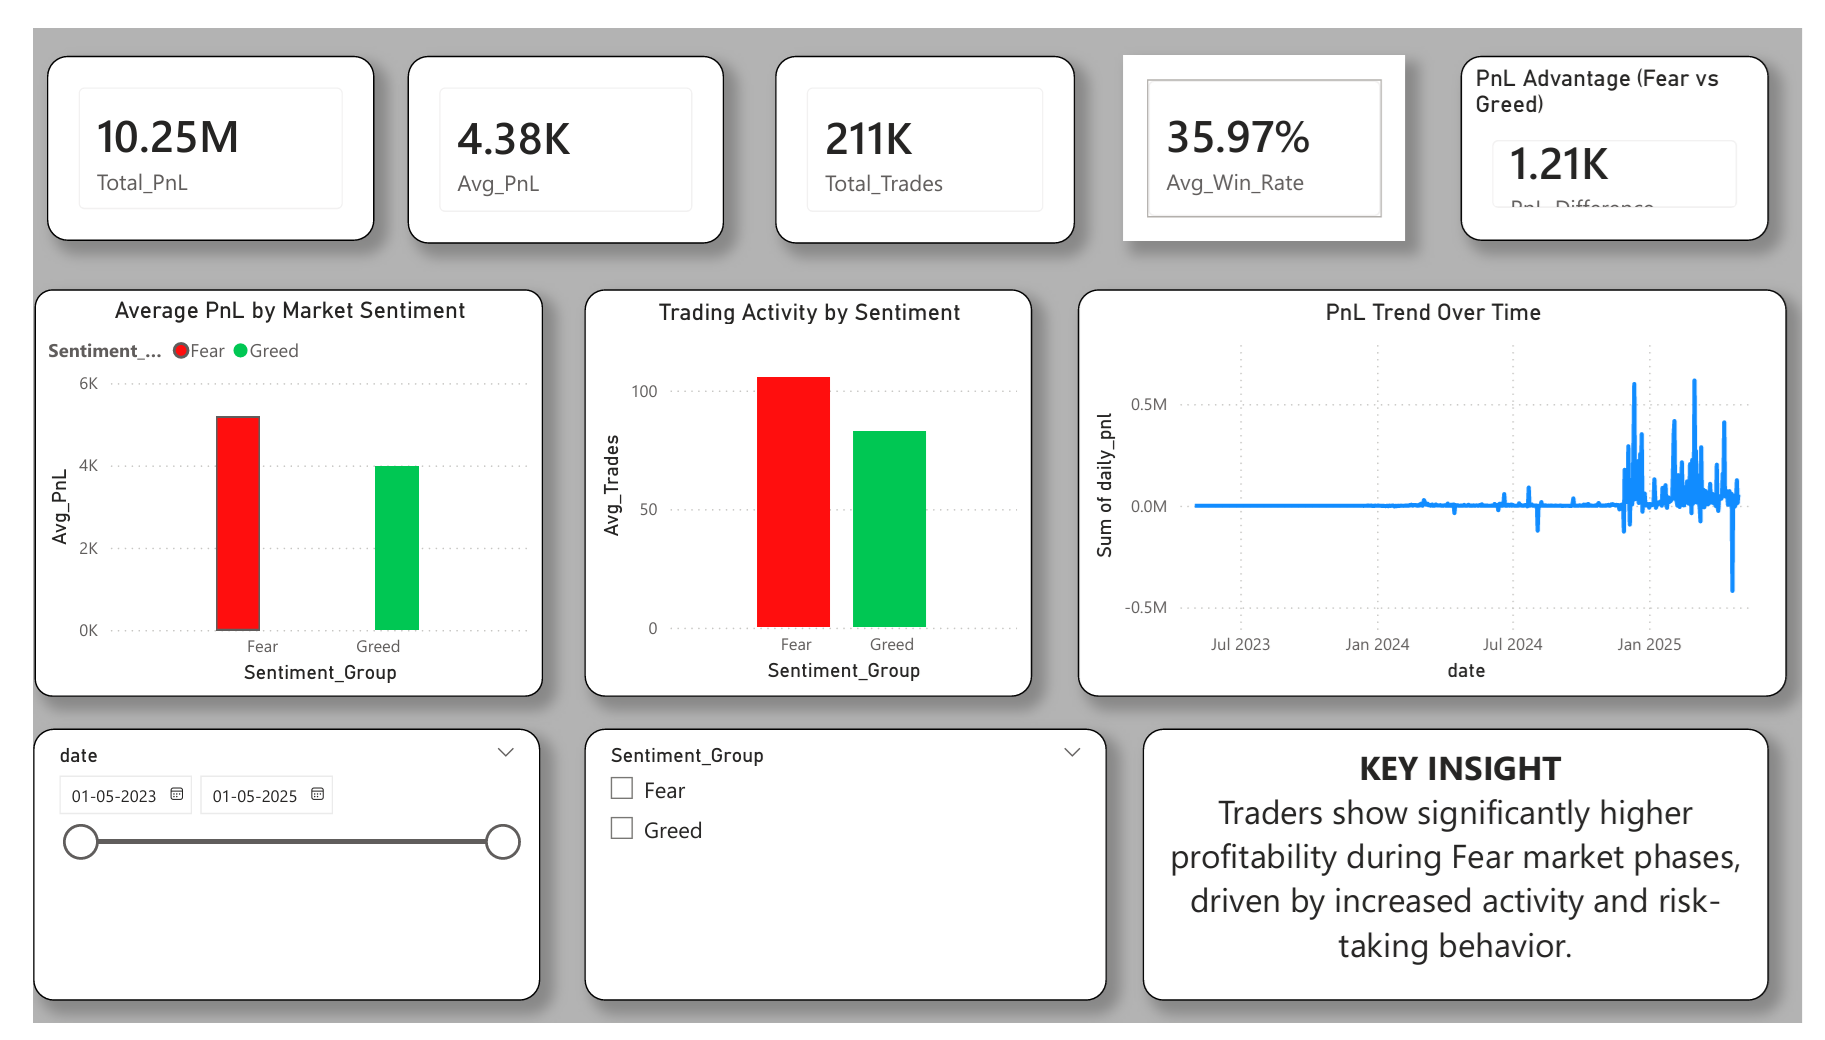

This screenshot's page, from the dashboard's own definition file:
{"tool":"powerbi","page":{"name":"Performance  Overview","canvas":[1280,720],"ordinal":0},"visuals":[{"type":"cardVisual","fields":{"Data":["fact_trades.Total_PnL"]},"box":[10,20,237.1,134.3],"z":0},{"type":"cardVisual","fields":{"Data":["fact_trades.Avg_PnL"]},"box":[271.4,20,228.6,135.7],"z":1000},{"type":"cardVisual","fields":{"Data":["fact_trades.Total_Trades"]},"box":[537.1,20,217.1,135.7],"z":2000},{"type":"cardVisual","fields":{"Data":["fact_trades.Avg_Win_Rate"]},"box":[788.6,20,204.3,134.3],"z":3000},{"type":"cardVisual","title":"PnL Advantage (Fear vs Greed)","fields":{"Data":["fact_trades.PnL_Difference"]},"box":[1032.9,20,222.9,134.3],"z":4000},{"type":"clusteredColumnChart","title":"Average PnL by Market Sentiment","fields":{"Category":["fact_trades.Sentiment_Group"],"Y":["fact_trades.Avg_PnL"],"Series":["fact_trades.Sentiment_Group"]},"box":[1.4,188.6,367.1,295.7],"z":5000},{"type":"clusteredColumnChart","title":"Trading Activity by Sentiment","fields":{"Category":["fact_trades.Sentiment_Group"],"Y":["fact_trades.Avg_Trades"]},"box":[398.6,188.6,324.3,295.7],"z":6000},{"type":"lineChart","title":"PnL Trend Over Time","fields":{"Y":["Sum(fact_trades.daily_pnl)"],"Category":["fact_trades.date"]},"box":[755.7,188.6,512.9,295.7],"z":7000},{"type":"textbox","box":[802.9,507.1,452.9,197.1],"z":8000},{"type":"slicer","fields":{"Values":["fact_trades.date"]},"box":[0,507.1,367.1,197.1],"z":9000},{"type":"slicer","fields":{"Values":["fact_trades.Sentiment_Group"]},"box":[398.6,507.1,378.6,197.1],"z":10000}]}

Visuals, with their boxes in screenshot pixels (x1, y1, x2, y2), scaled from the page's 1280x720 canvas onto the 1825x1040 screenshot:
cardVisual - fact_trades.Total_PnL: l=14, t=29, r=352, b=223
cardVisual - fact_trades.Avg_PnL: l=387, t=29, r=713, b=225
cardVisual - fact_trades.Total_Trades: l=766, t=29, r=1075, b=225
cardVisual - fact_trades.Avg_Win_Rate: l=1124, t=29, r=1416, b=223
"PnL Advantage (Fear vs Greed)" cardVisual: l=1473, t=29, r=1790, b=223
"Average PnL by Market Sentiment" clusteredColumnChart: l=2, t=272, r=525, b=700
"Trading Activity by Sentiment" clusteredColumnChart: l=568, t=272, r=1031, b=700
"PnL Trend Over Time" lineChart: l=1077, t=272, r=1809, b=700
textbox: l=1145, t=732, r=1790, b=1017
slicer - fact_trades.date: l=0, t=732, r=523, b=1017
slicer - fact_trades.Sentiment_Group: l=568, t=732, r=1108, b=1017
